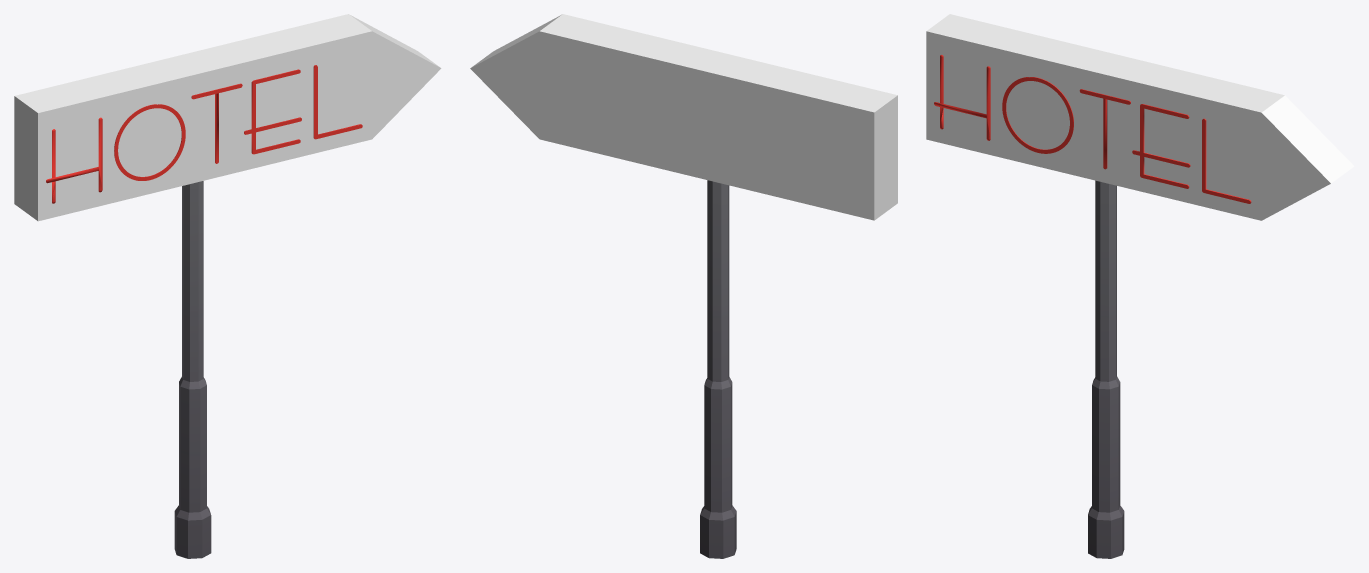
File: Hotel_sign_06.fbx
3 renders of one model, left to right at view 1: azimuth 30°, elevation 25°; view 2: azimuth 150°, elevation 25°; view 3: azimuth 330°, elevation 25°, orthographic.
Visible parts, largest first — view 1: Hotel_sign_06; view 2: Hotel_sign_06; view 3: Hotel_sign_06.
Part boxes in pixels (box(x1,y1,x2,y2)): Hotel_sign_06: box(14, 14, 441, 558); Hotel_sign_06: box(470, 14, 897, 558); Hotel_sign_06: box(926, 14, 1354, 558).
Size of the model in its own units: 185 by 214 by 19.37.
